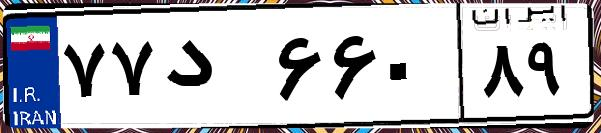0: (385, 28, 445, 110)
6: (270, 28, 330, 110), (330, 28, 385, 110)
7: (57, 26, 110, 100), (110, 28, 158, 98)
8: (475, 38, 525, 113)
9: (525, 38, 570, 115)
د: (158, 20, 270, 120)
